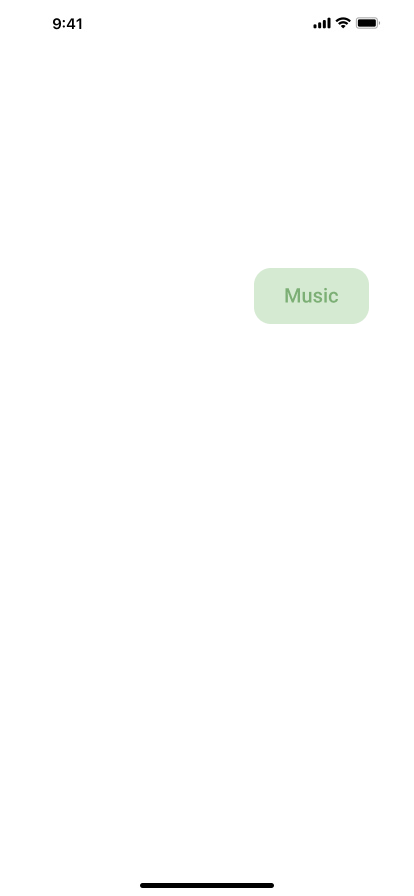Buttons: (254, 268, 377, 324)
Home Indicator: (0, 862, 414, 896)
Status Bar: (0, 0, 414, 44)
